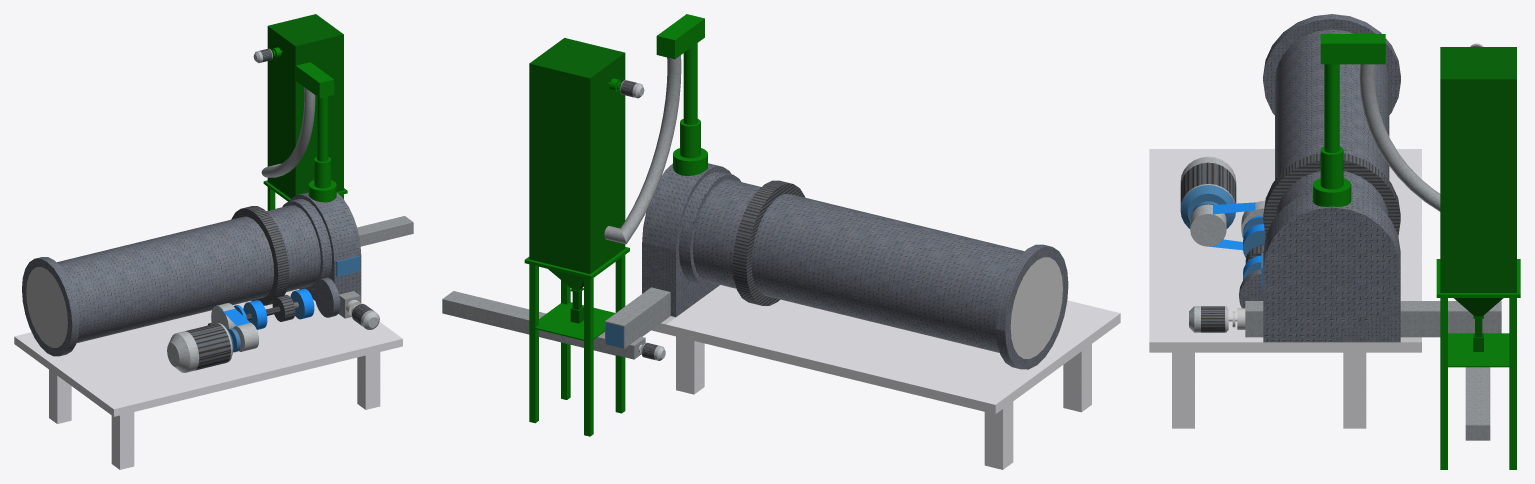
Rendered from 致密机.glb.
3 renders of one model, left to right at view 1: azimuth 30°, elevation 25°; view 2: azimuth 150°, elevation 25°; view 3: azimuth 270°, elevation 25°, orthographic. The views are drawn at different scales.
Visible parts, largest first — view 1: root; view 2: root; view 3: root.
Part boxes in pixels (x1,y1,x2,y2): root: (14,14,413,469); root: (442,14,1120,469); root: (1149,14,1520,469).
Size of the model in its own units: 8.57 by 5.62 by 4.85.
Materials: 11 (6 with a texture image).
